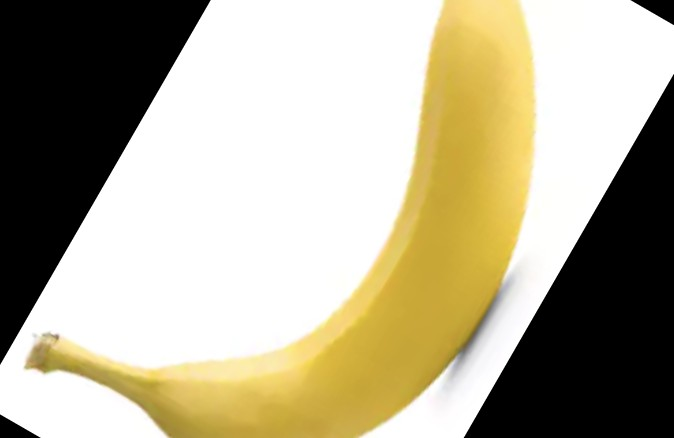fresh_banana: (28, 1, 534, 438)
